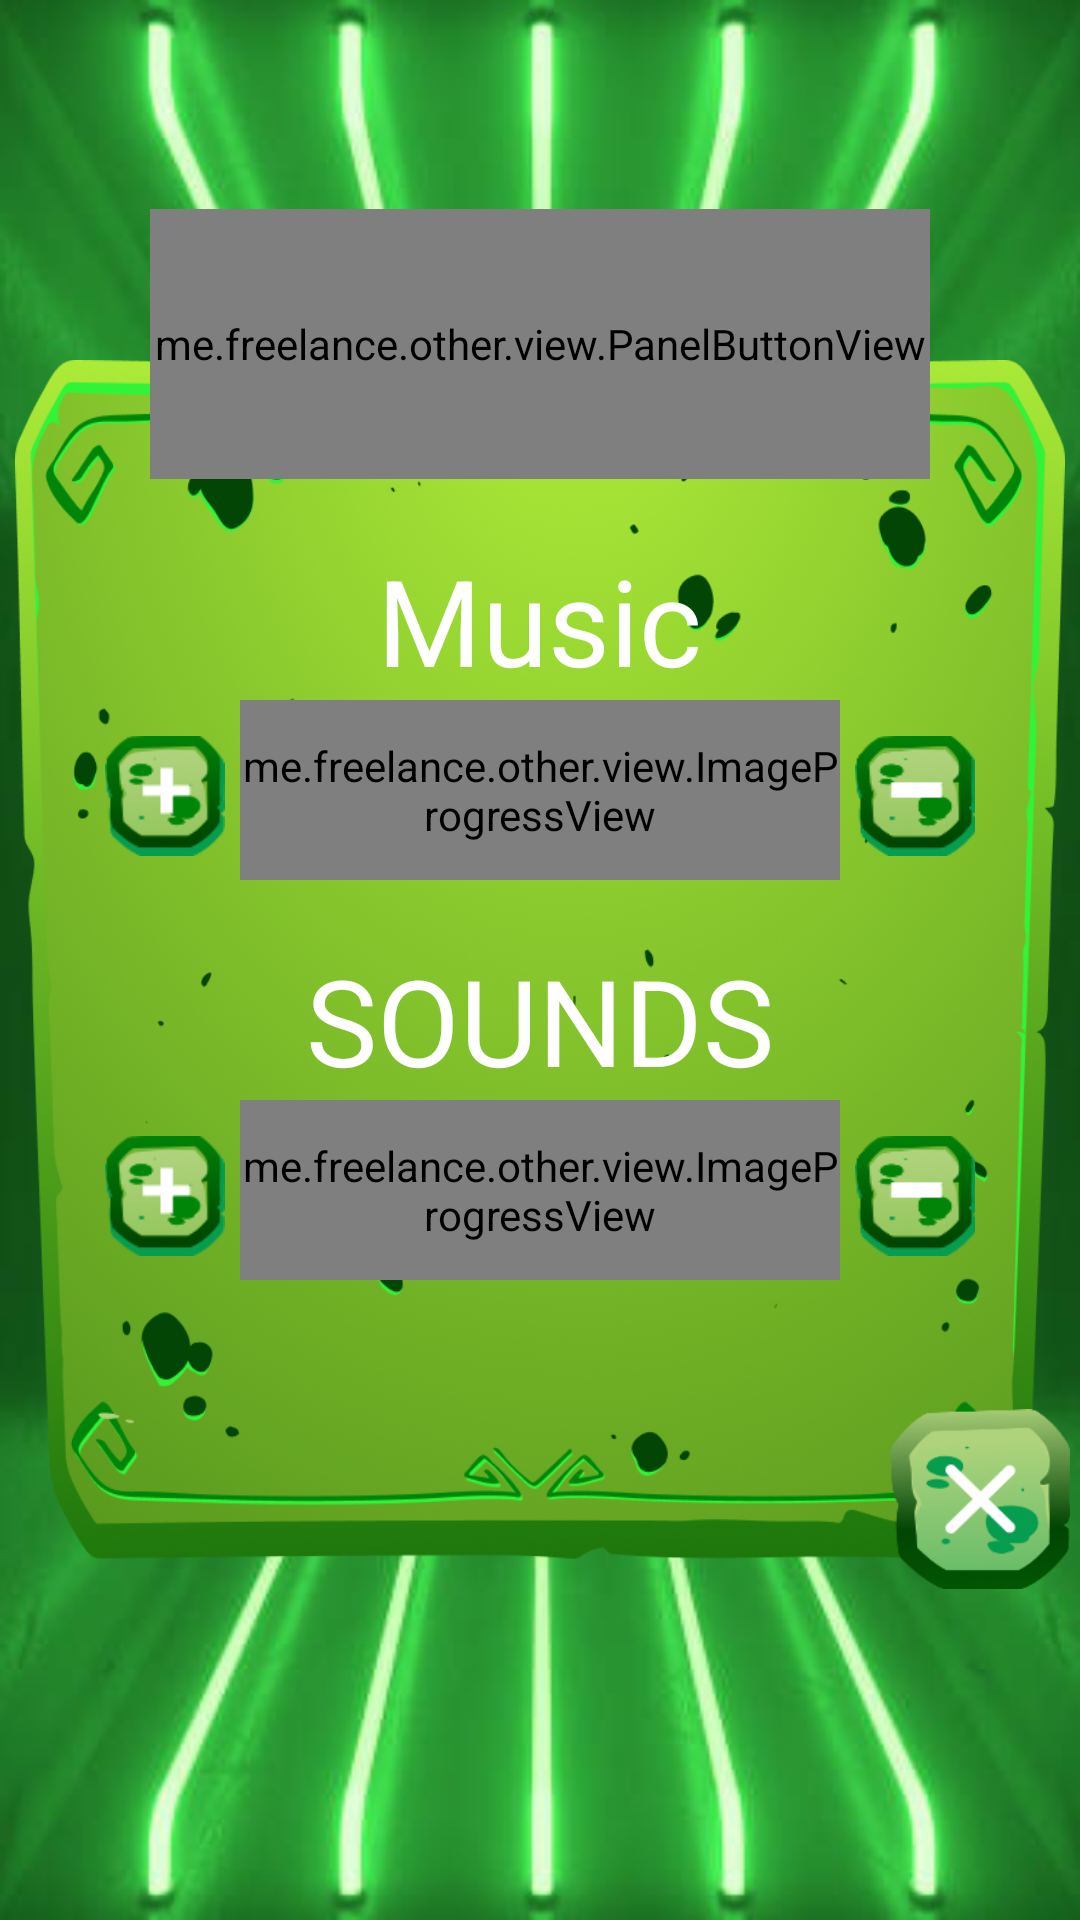

Point at icon controls on the screen. Image size 1080×1920, points as [x,y].
exit: [980,1499]
minus: [915,796], [915,1196]
plus: [165,796], [165,1196]
